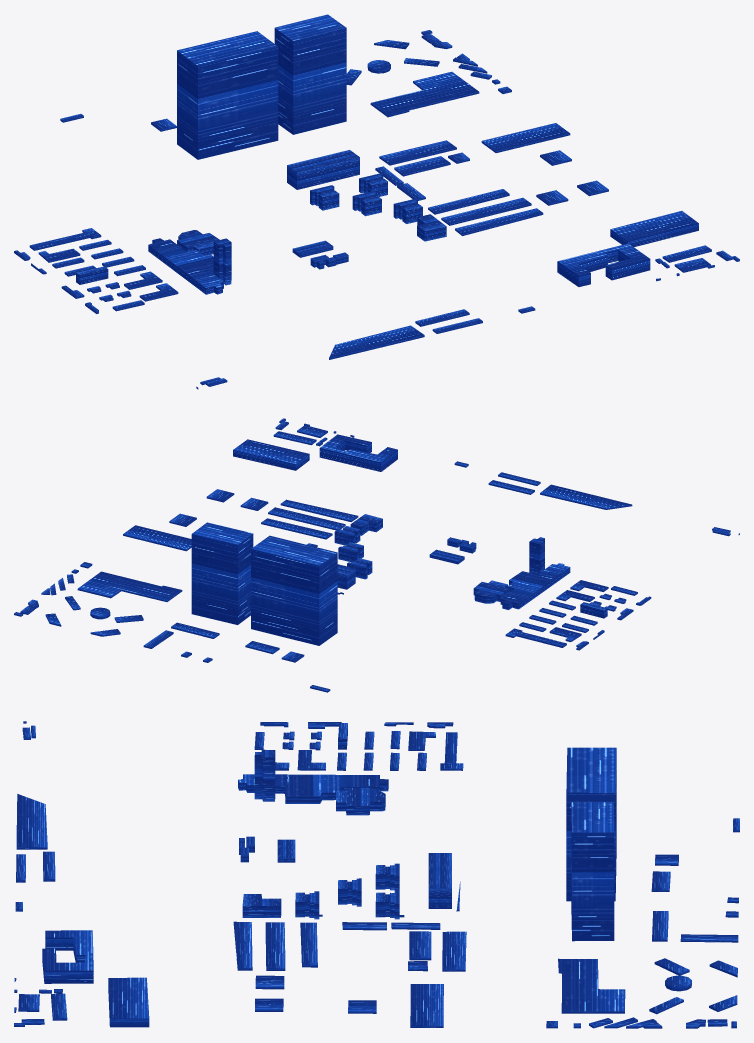
The model's file is 建筑物.gltf.
The picture shows the model from 3 angles, top to bottom: view 1: azimuth 30°, elevation 25°; view 2: azimuth 150°, elevation 25°; view 3: azimuth 270°, elevation 25°; orthographic projection. The views are drawn at different scales.
Parts seen in each view (by area): view 1: 立方体.8; view 2: 立方体.8; view 3: 立方体.8.
Boxes of the visible parts, x1,y1,x2,y2 form: 立方体.8: (14, 14, 739, 389); 立方体.8: (14, 418, 739, 692); 立方体.8: (14, 721, 739, 1028).
Bounding box in the file's own units: 916 × 153 × 921.
1 material, 1 textured.
